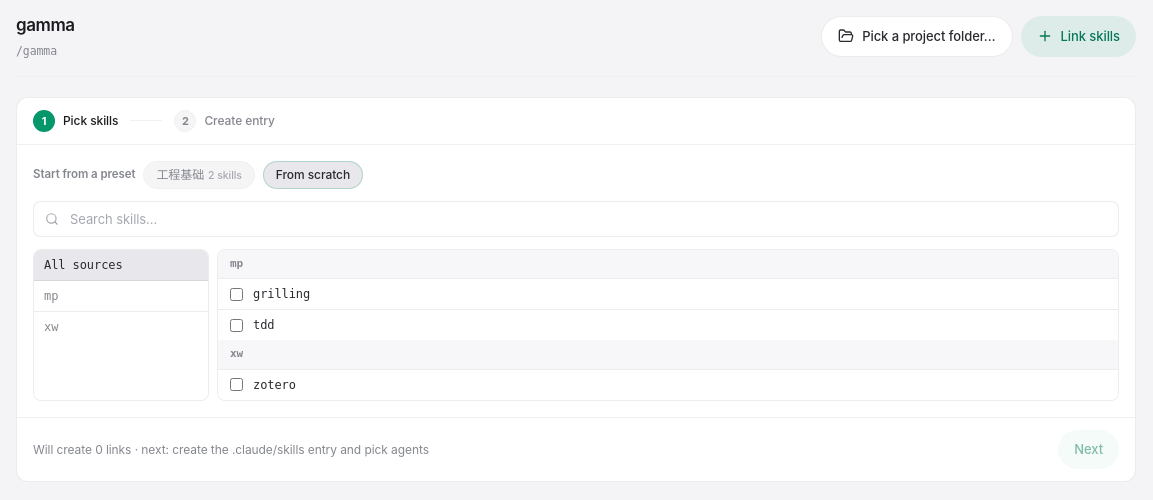
Scenario: ChainProjects › scopes the picker by source without dropping the selection
Click the checkbox labelled "zotero".
click(236, 385)  # box [230,378,243,391]
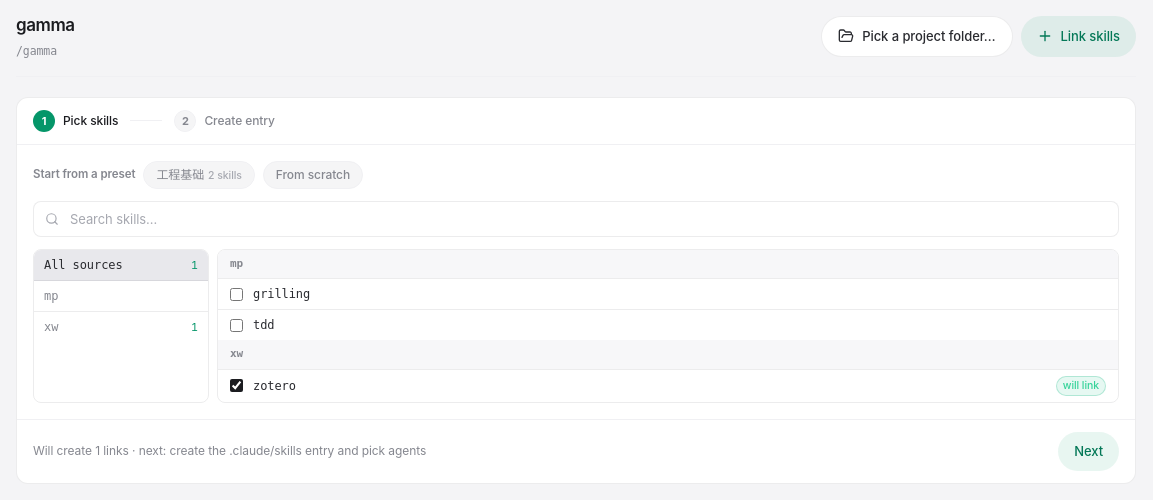
Click the button with test id "picker-source".
click(121, 296)  # box [34,281,208,312]
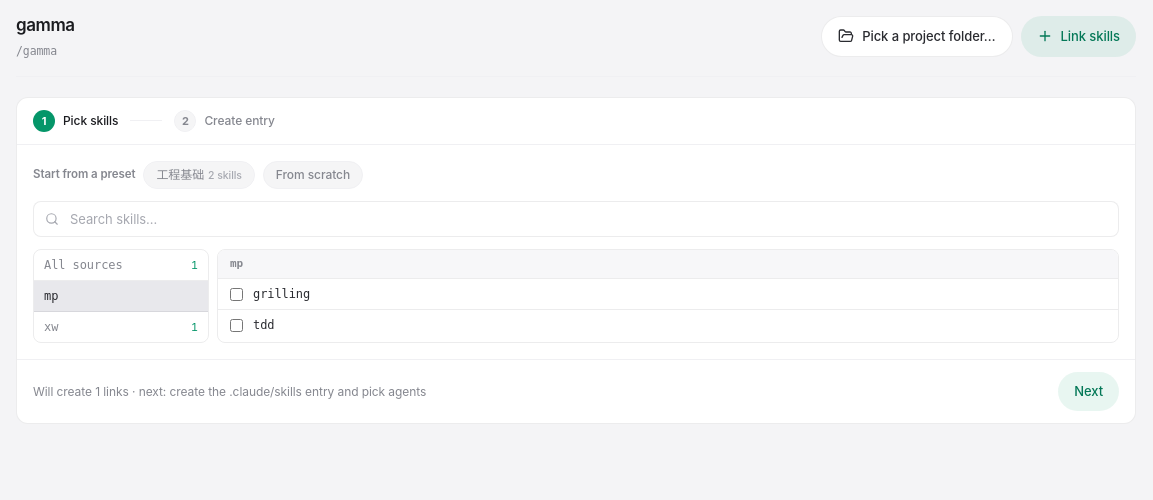
Check: the text with test id "wizard-summary" shows "Will create 1 links", box [33,384,426,398]
Check: the text "zotero" is gone
